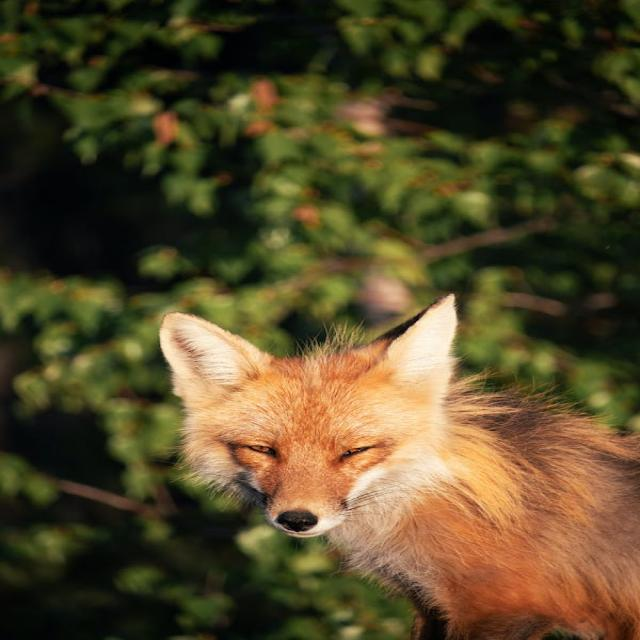cat: (146, 297, 640, 635)
